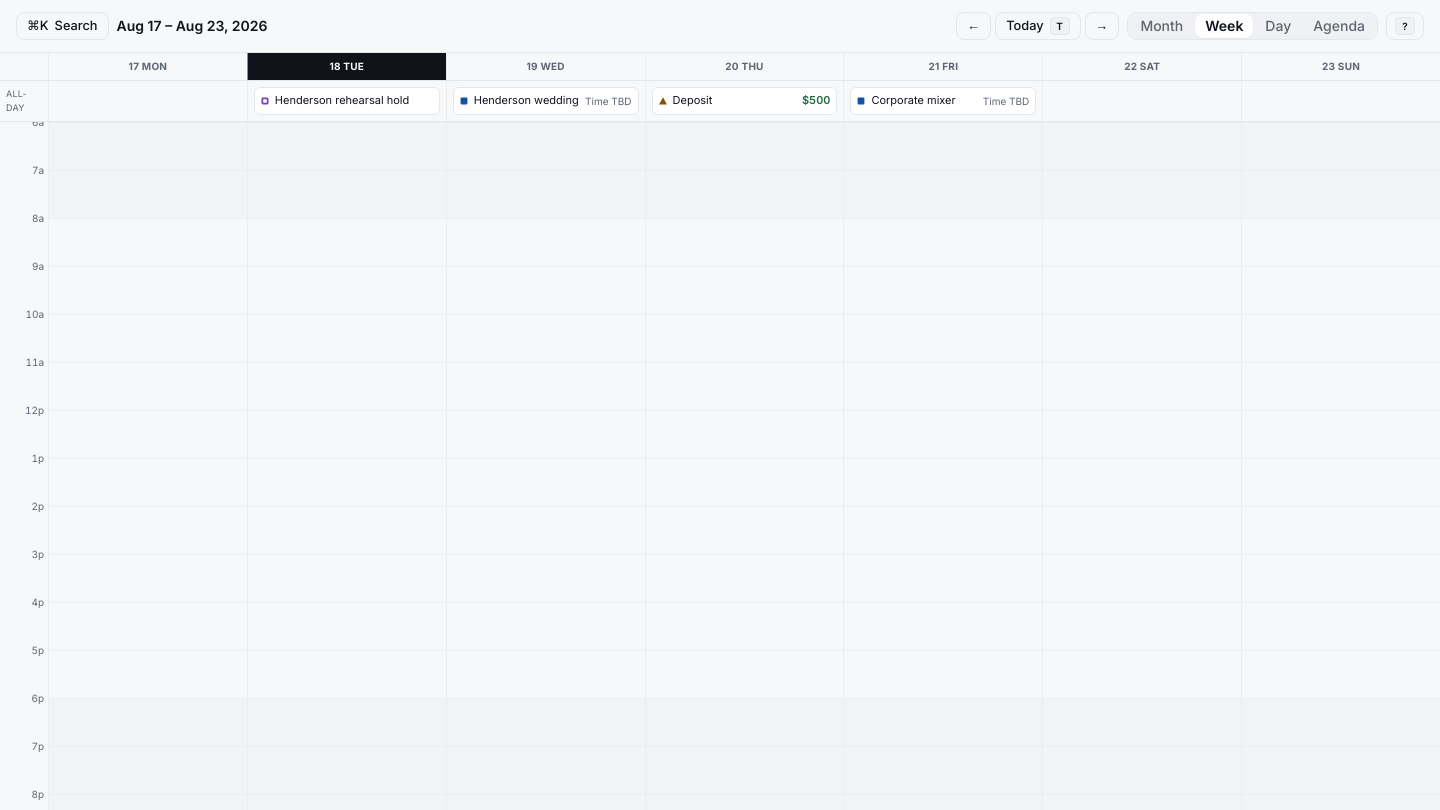
Test: CalendarCanvas — the command palette searches the feed › offers a confirmable jump for "sep 13" — the parse is spelled out first
Press k
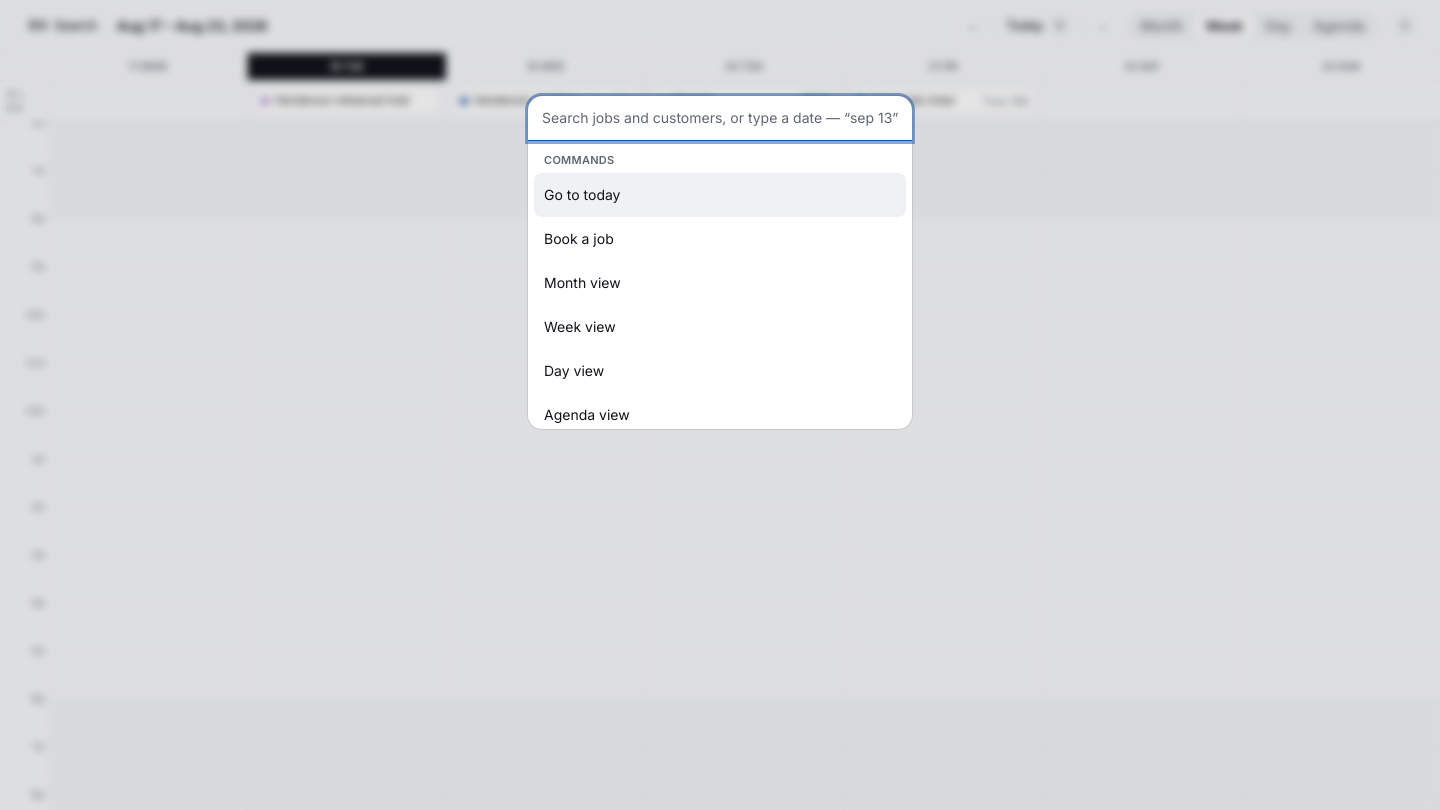
Replace the text in the dropdown with "sep 13" at coordinates (720, 118), box [528,96,912,141]
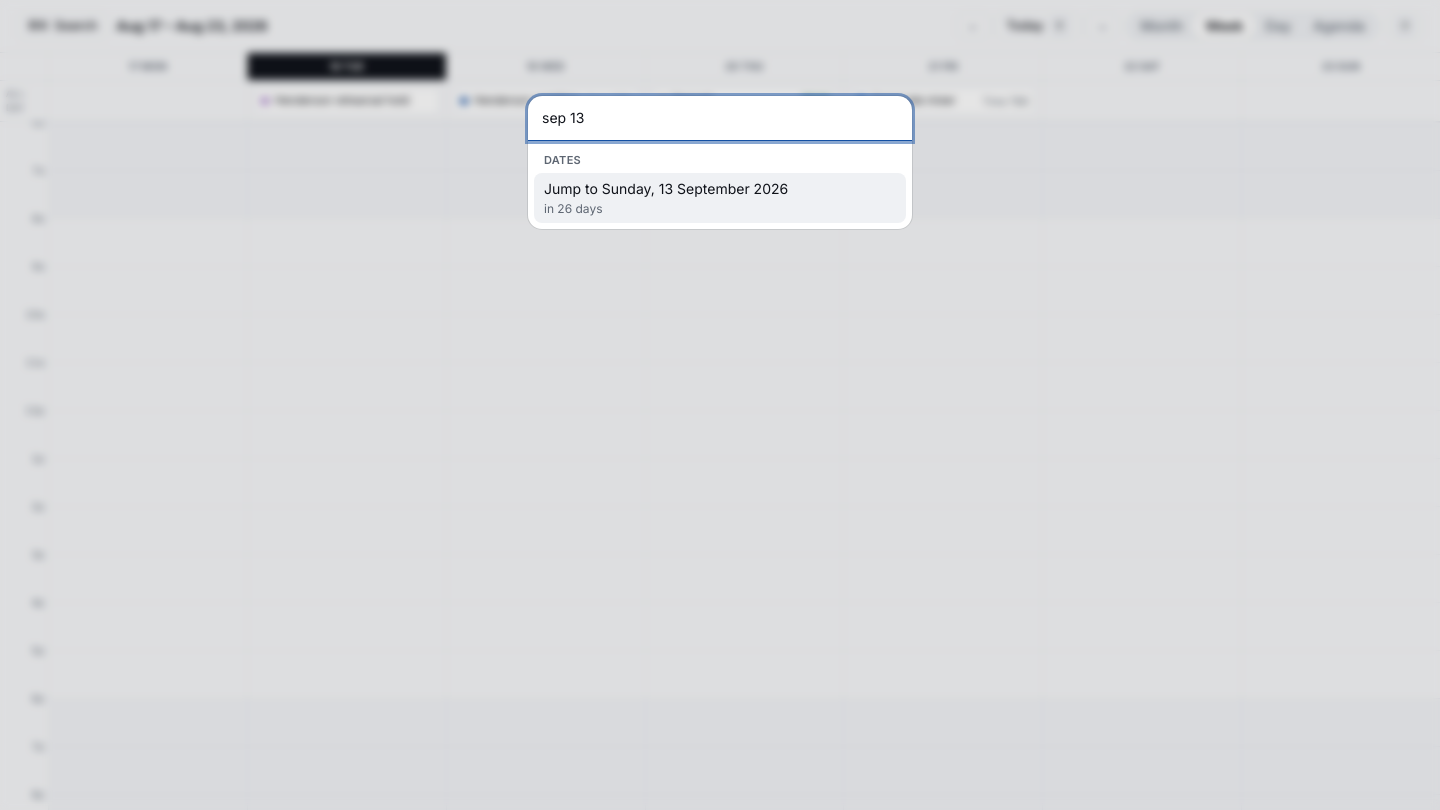
Check: the text "Jump to Sunday, 13 September 2026" is shown, box [544,180,788,197]
